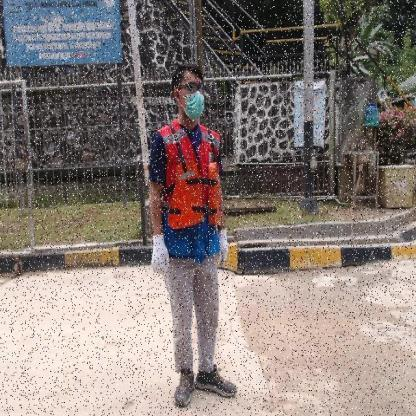boots: (195, 365, 239, 400), (172, 366, 196, 408)
gloves: (150, 234, 172, 278), (217, 231, 229, 266)
goggles: (184, 81, 206, 93)
mask: (184, 92, 206, 121)
vest: (168, 159, 223, 231)
